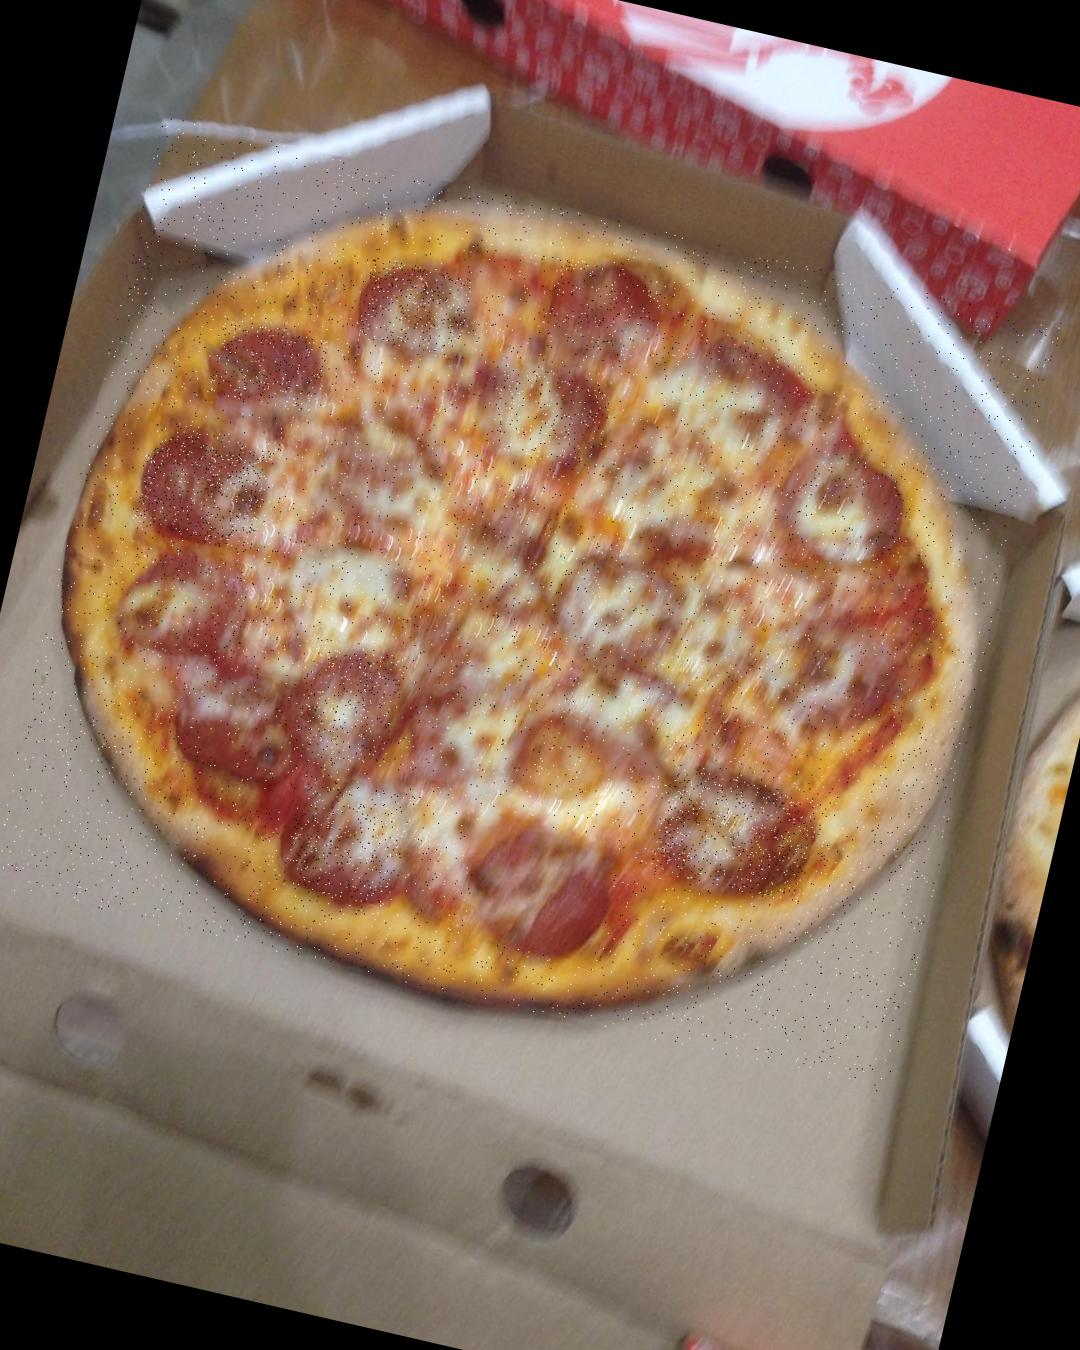Pepperoni: (650, 767, 822, 906), (462, 816, 618, 966), (133, 422, 277, 555), (280, 770, 415, 908), (107, 539, 253, 665), (782, 443, 921, 566), (291, 638, 410, 771), (174, 660, 303, 782), (486, 361, 615, 472), (540, 257, 669, 363), (356, 256, 475, 359), (700, 333, 827, 426), (208, 318, 330, 415)
Pizza: (0, 117, 1065, 1095)
